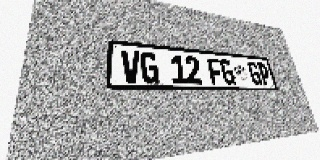1: (169, 54, 188, 84)
2: (184, 55, 202, 84)
F: (207, 58, 224, 85)
G: (140, 51, 159, 83), (219, 59, 236, 85), (247, 61, 263, 85)
P: (257, 62, 272, 85)
V: (121, 50, 141, 83)
